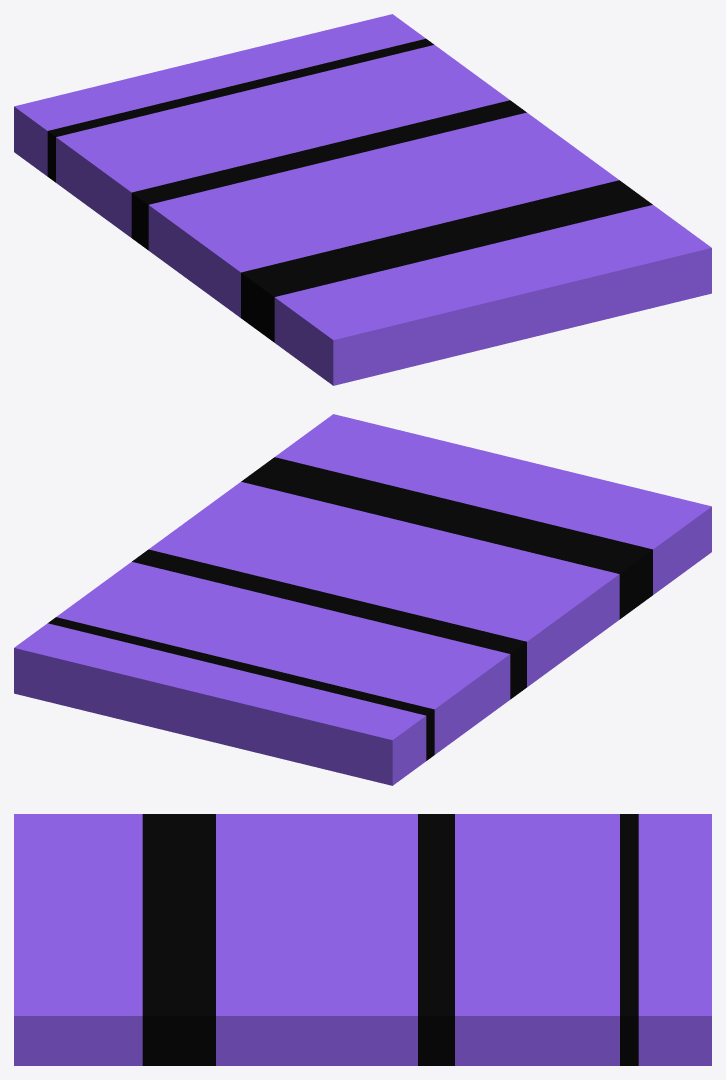
Rendered from enemy3-0.obj.
The picture shows the model from 3 angles, top to bottom: view 1: azimuth 30°, elevation 25°; view 2: azimuth 150°, elevation 25°; view 3: azimuth 270°, elevation 25°; orthographic projection. The views are drawn at different scales.
Bounding box in the file's own units: 2.6 × 0.3 × 3.8.
1 material, 1 textured.
